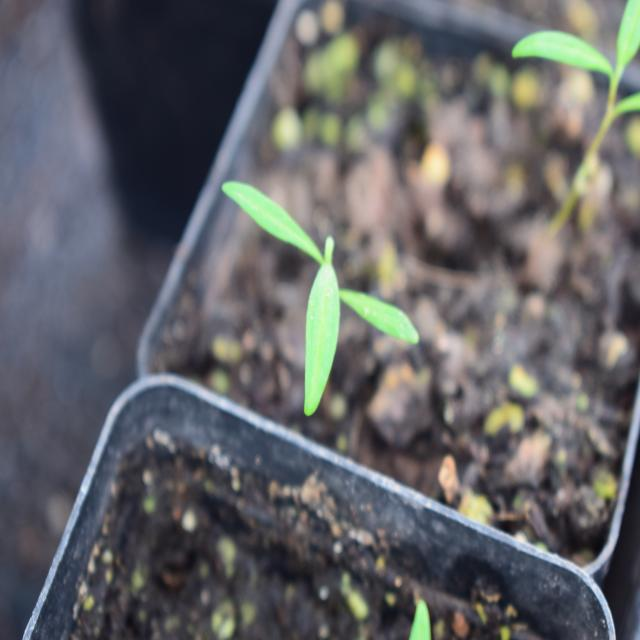white_smart_weed: (207, 167, 434, 440)
